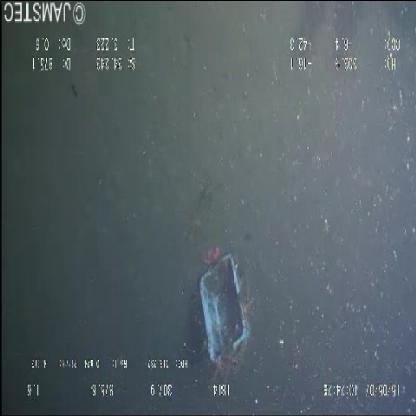Rác: (192, 245, 255, 376)
